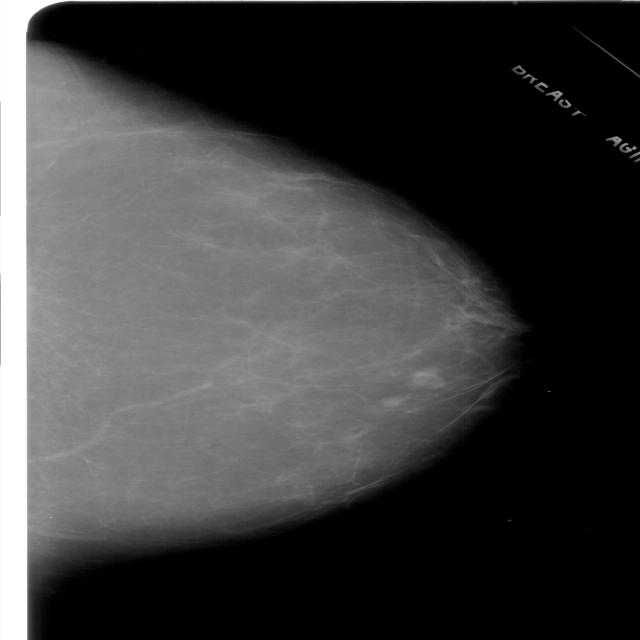normal: (0, 40, 561, 556)
